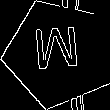M_S: (34, 26, 85, 81)
